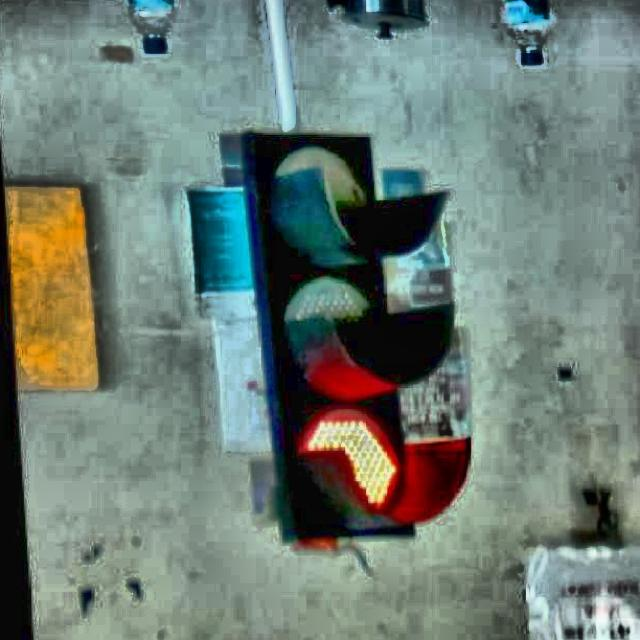red: (246, 124, 438, 546)
